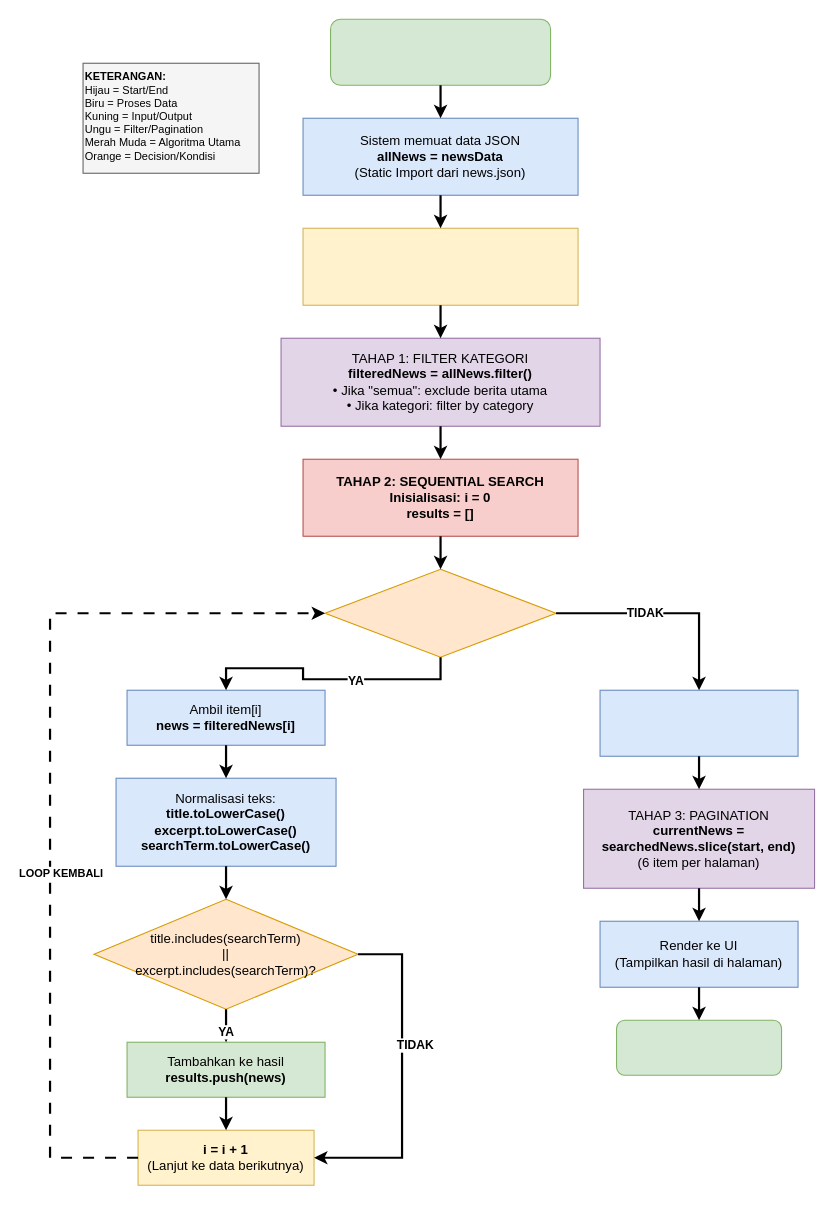
This 834x1205 diagram has some shape labels left out. The centre of each missing label's shape, as x and y in pixels:
END: (x=698, y=1047)
i < filteredNews.length?: (x=440, y=612)
Input dari User: 1. searchTerm (kata kunci) 2. activeFilter (kategori): (x=440, y=266)
Return searchedNews (Array hasil pencarian): (x=698, y=722)
START (Pengguna membuka halaman berita): (x=440, y=51)
